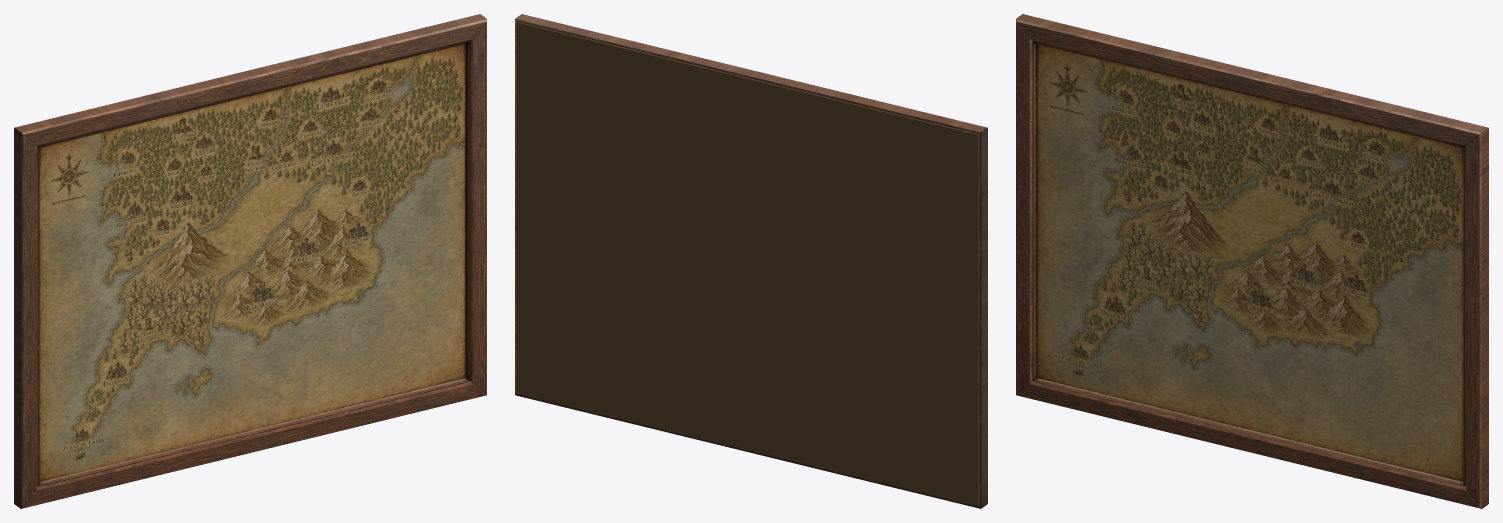
File: CuadroArkanor_TLBD.glb
3 renders of one model, left to right at view 1: azimuth 30°, elevation 25°; view 2: azimuth 150°, elevation 25°; view 3: azimuth 330°, elevation 25°, orthographic.
Visible parts, largest first — view 1: Mapa_Arkanor_Original, Marco_Superior, Marco_Inferior, Marco_Izquierdo, Marco_Derecho; view 2: Tablero_Trasero, Marco_Superior, Marco_Izquierdo, Marco_Inferior, Marco_Derecho; view 3: Mapa_Arkanor_Original, Marco_Superior, Marco_Inferior, Marco_Derecho, Marco_Izquierdo.
Part boxes in pixels (x1,y1,x2,y2): Mapa_Arkanor_Original: (39, 44, 465, 481); Marco_Superior: (14, 14, 486, 147); Marco_Inferior: (21, 378, 486, 508); Marco_Izquierdo: (14, 128, 39, 508); Marco_Derecho: (465, 22, 486, 394); Tablero_Trasero: (517, 22, 979, 505); Marco_Superior: (515, 14, 987, 134); Marco_Izquierdo: (979, 128, 987, 508); Marco_Inferior: (515, 393, 980, 508); Marco_Derecho: (515, 19, 517, 394); Mapa_Arkanor_Original: (1037, 44, 1463, 481); Marco_Superior: (1016, 14, 1488, 147); Marco_Inferior: (1016, 378, 1481, 508); Marco_Derecho: (1463, 128, 1488, 508); Marco_Izquierdo: (1016, 22, 1037, 394).
Bounding box in the file's own units: 1.4 × 1.08 × 0.044.
Materials: 3 (2 with a texture image).
